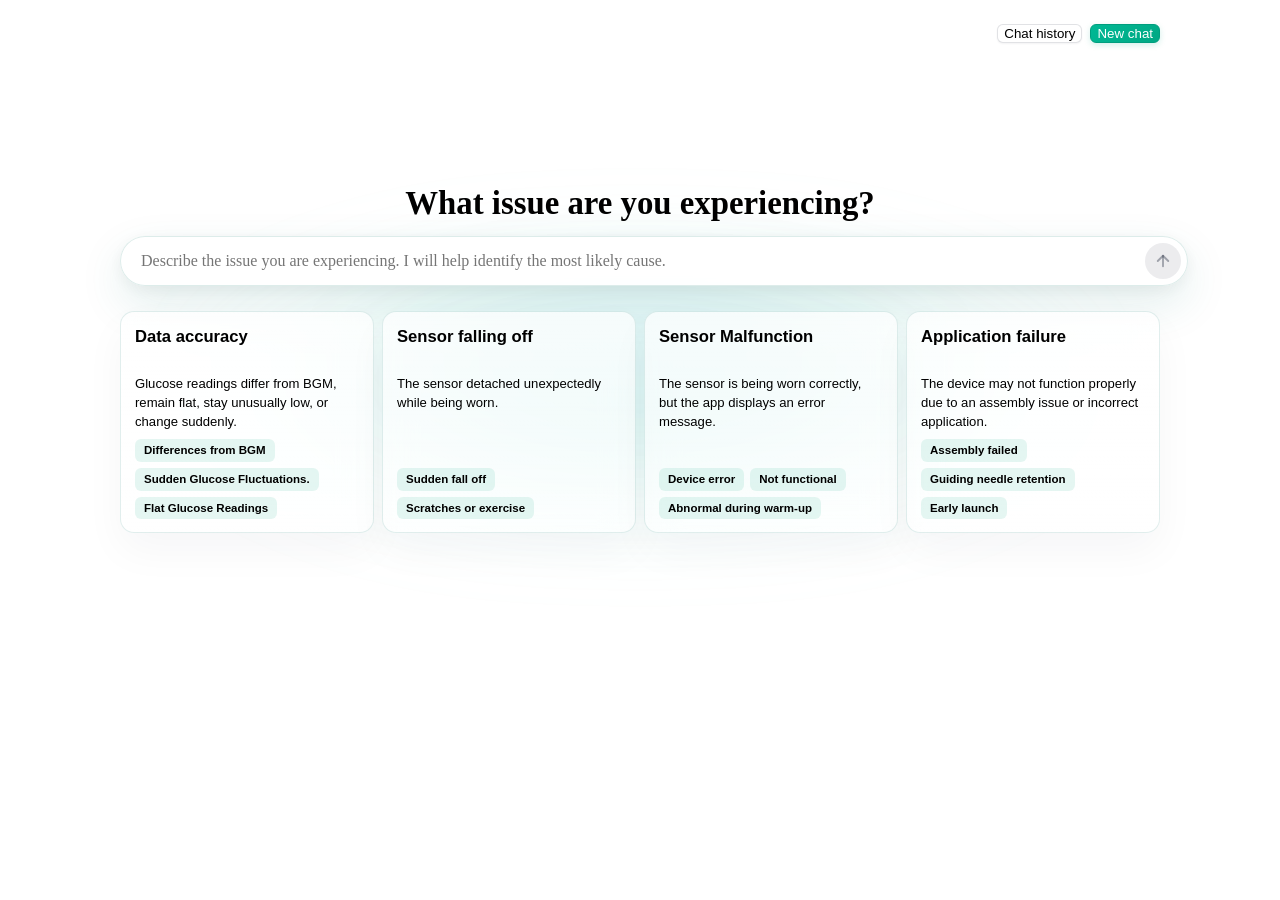
Test: AgentChatView › starts a new chat from the header button
Replace the text in the text box named "Describe the case" with "The sensor fell off during wear." at (637, 261), box [141, 245, 1133, 277]
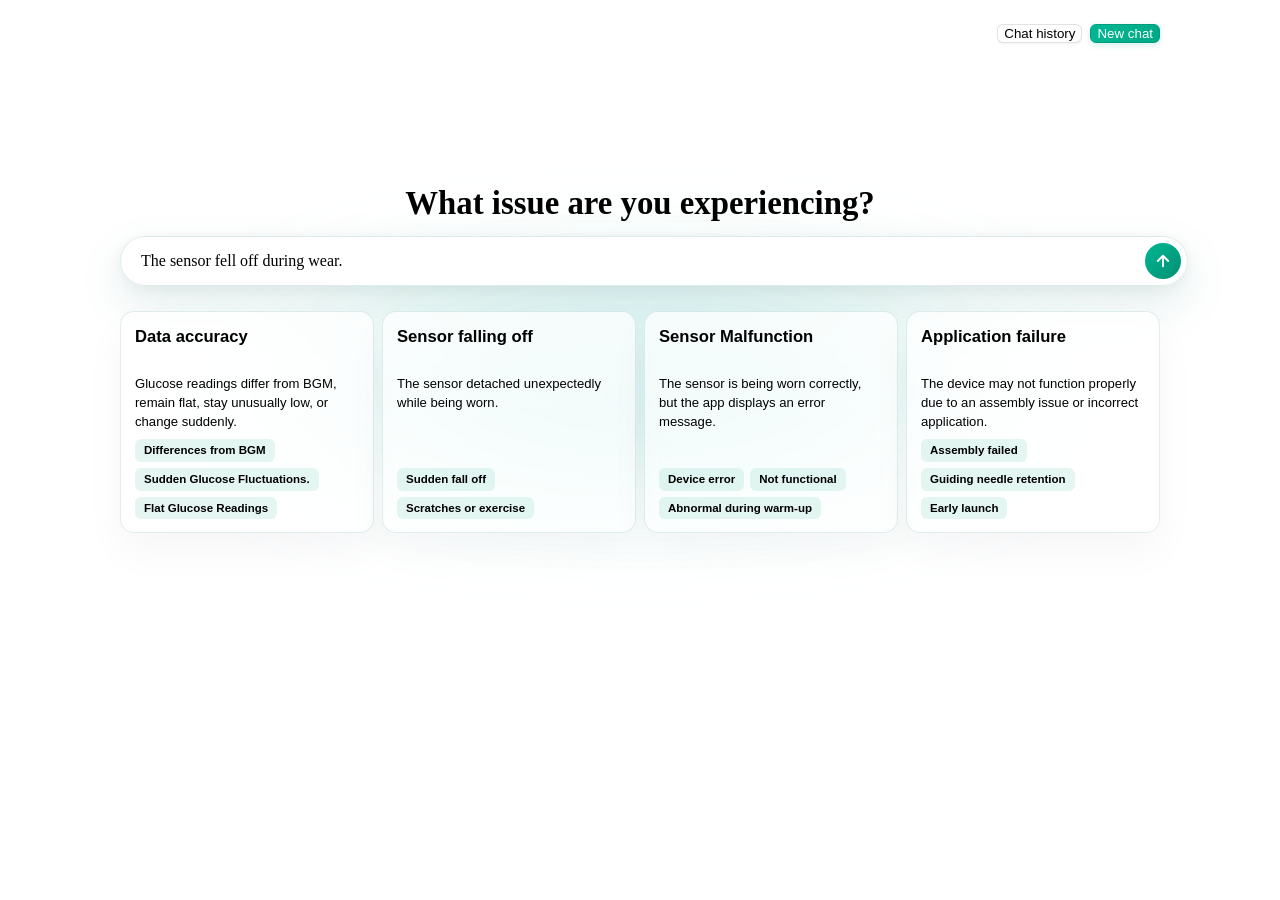
Submit the form, box [120, 236, 1188, 286]
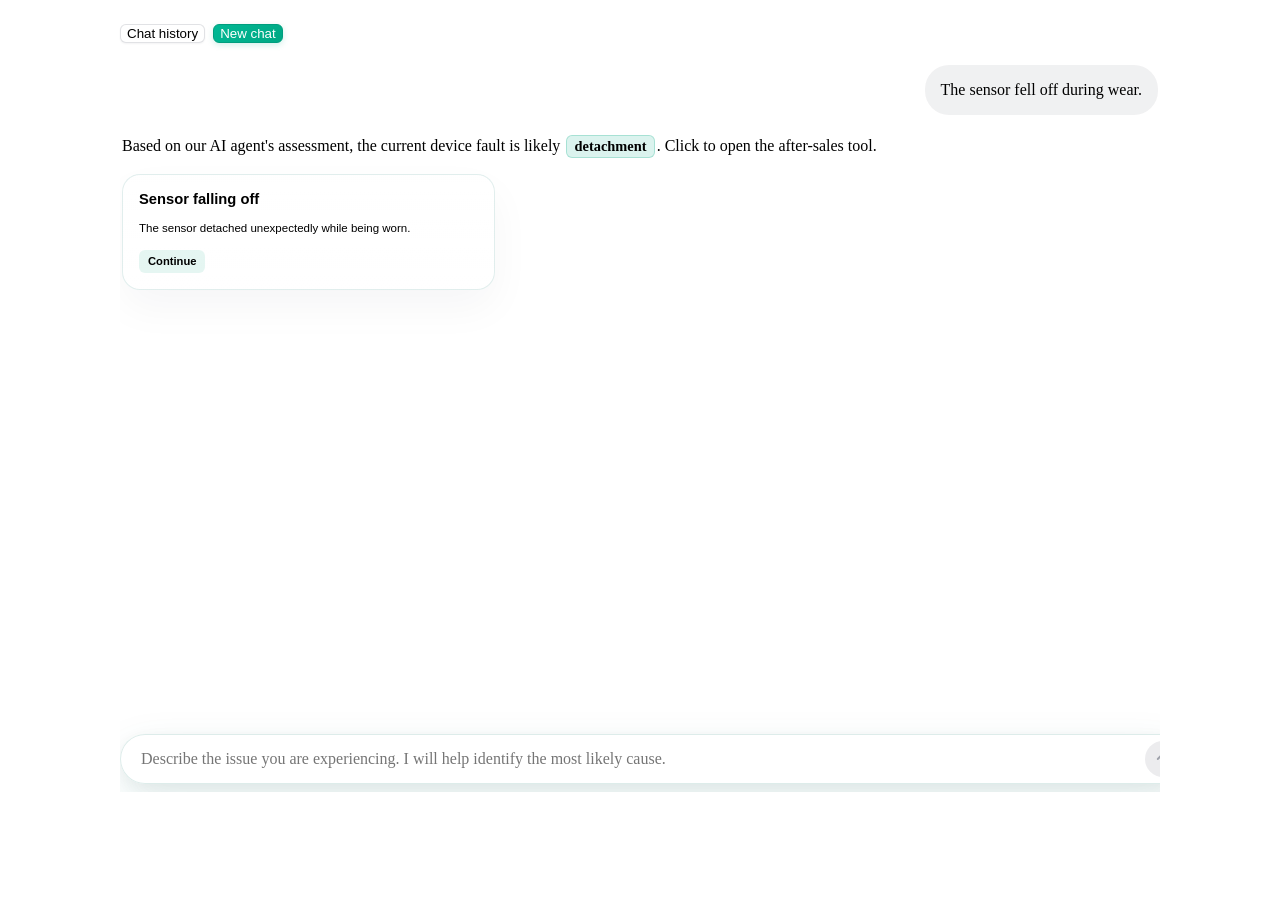
Click the button with test id "new-chat-button" at (248, 34), box [213, 24, 283, 43]
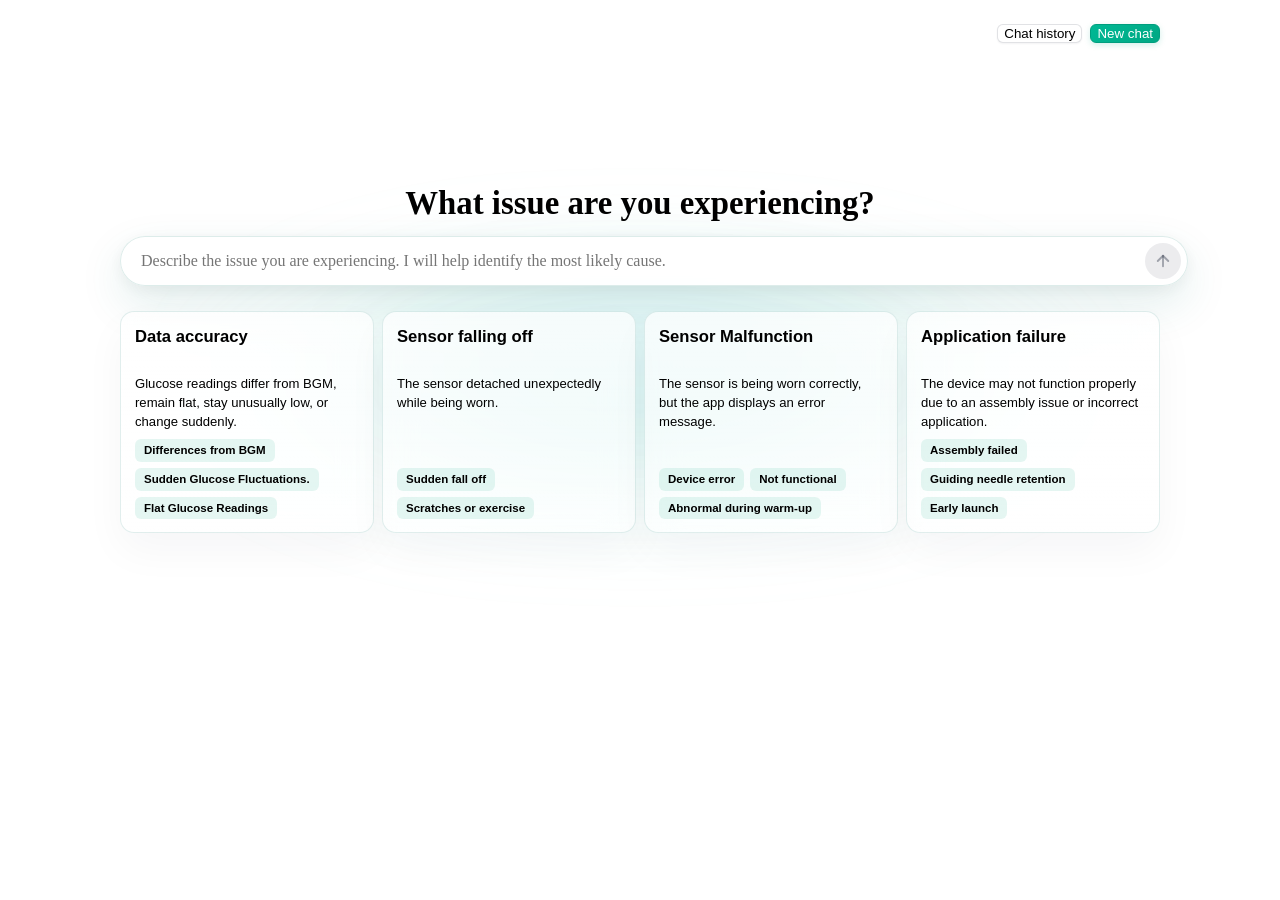
expect the number of buttons with test id "fault-entry-card" is 4: met, box [120, 311, 374, 534]; [382, 311, 636, 534]; [644, 311, 898, 534]; [906, 311, 1160, 534]
